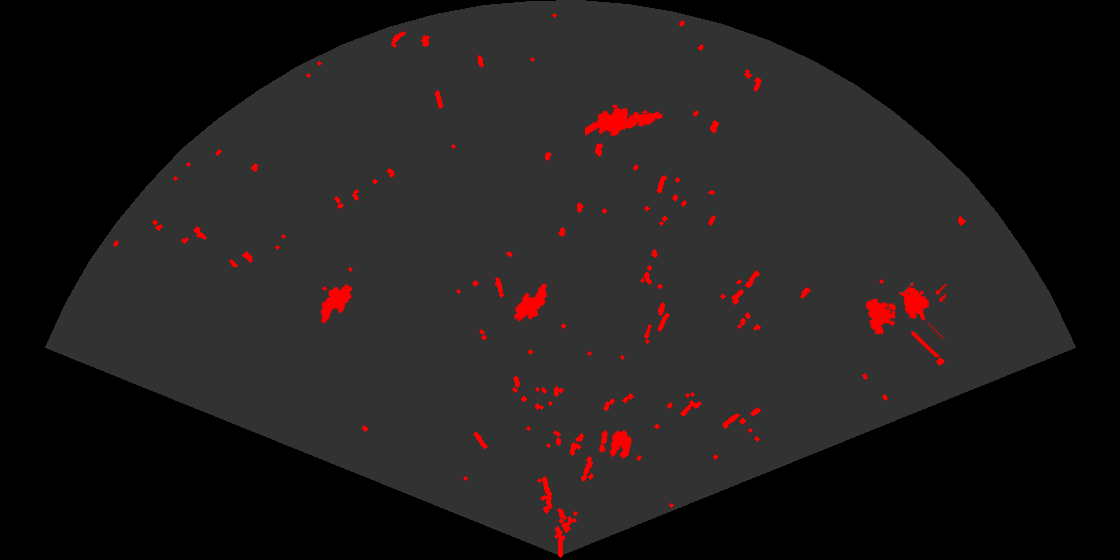AUV: (512, 282, 549, 323), (319, 282, 354, 325)
ball: (598, 429, 634, 460)
cage: (864, 281, 946, 357)
frogman: (585, 103, 664, 138)
